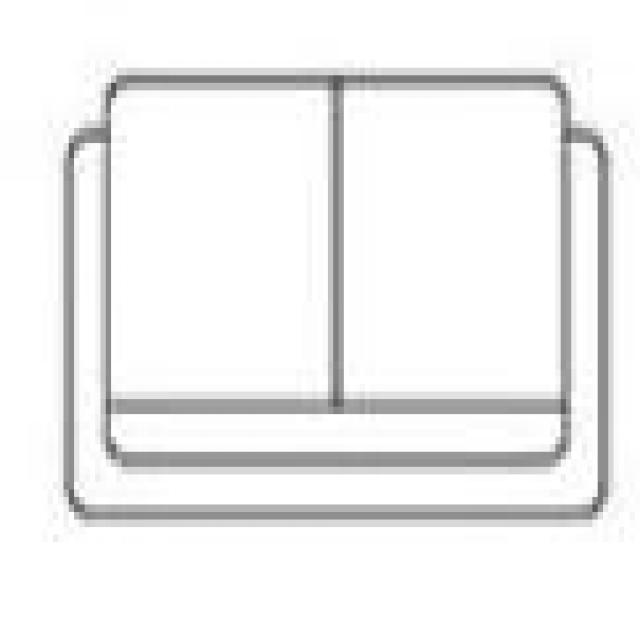sofa: (58, 60, 608, 497)
